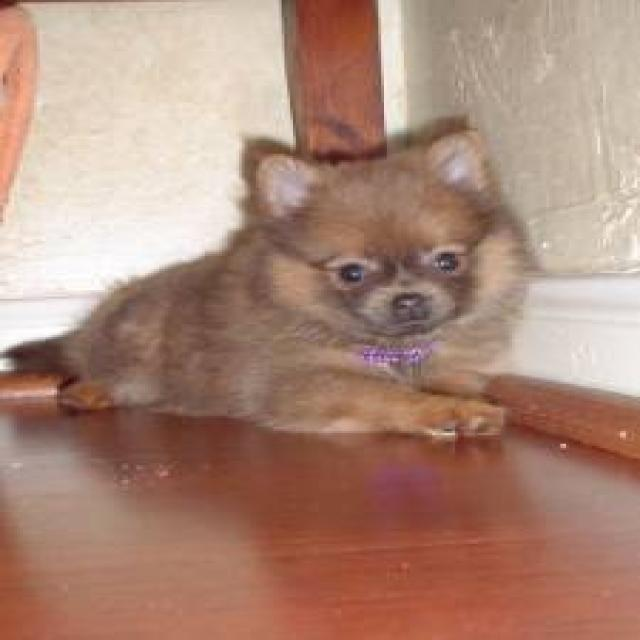dog-pomeranian: (43, 122, 540, 450)
